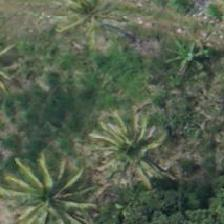coconut_tree: (86, 100, 176, 190), (7, 147, 97, 223)
